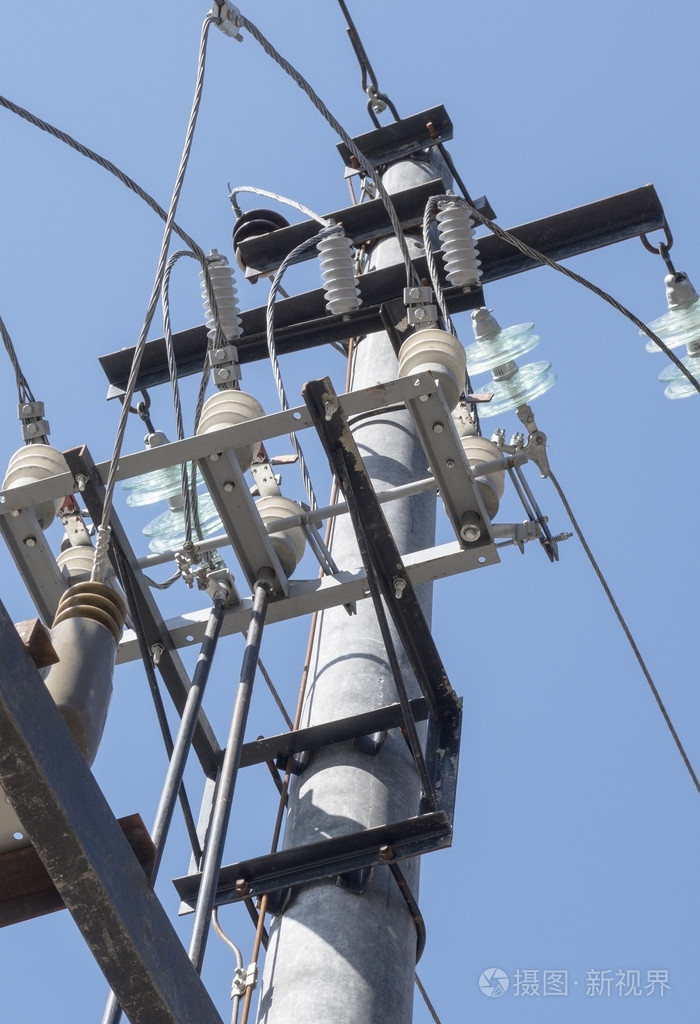insulator: (455, 324, 564, 414), (125, 458, 231, 542), (634, 303, 700, 404)
